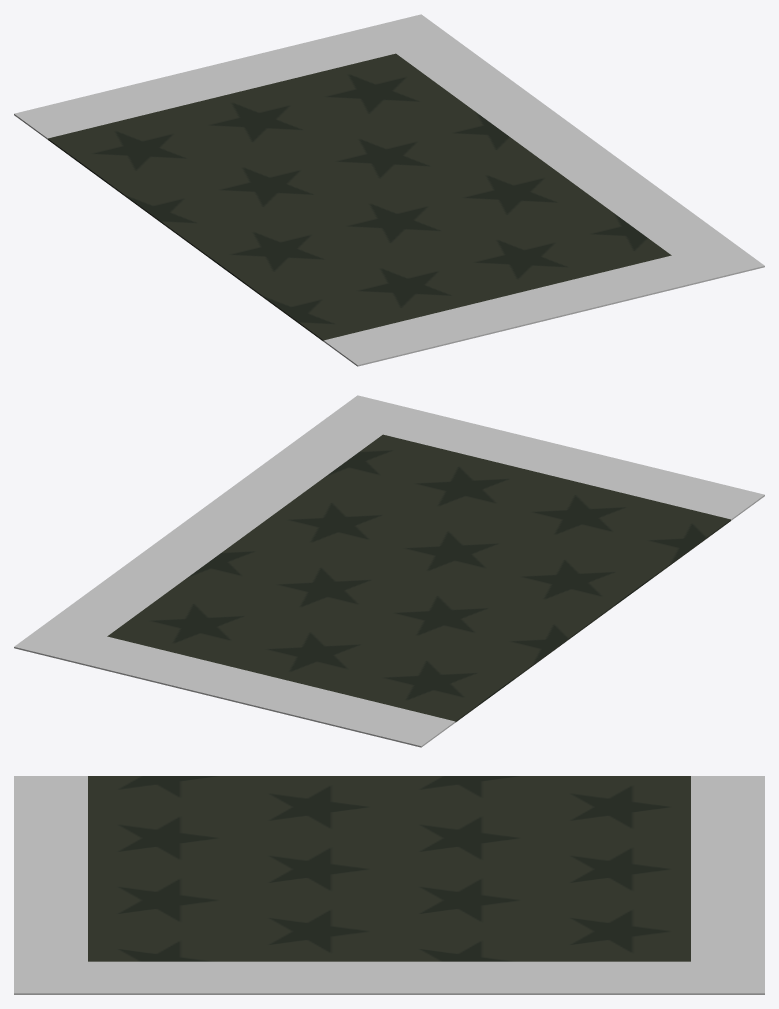
Rendered from Carpet_end.fbx.
The picture shows the model from 3 angles, top to bottom: view 1: azimuth 30°, elevation 25°; view 2: azimuth 150°, elevation 25°; view 3: azimuth 270°, elevation 25°; orthographic projection. The views are drawn at different scales.
Parts seen in each view (by area): view 1: Cube.026; view 2: Cube.026; view 3: Cube.026.
Boxes of the visible parts, left/top/right/bottom form: Cube.026: left=14, top=14, right=764, bottom=366; Cube.026: left=14, top=395, right=764, bottom=747; Cube.026: left=14, top=776, right=764, bottom=994.
Bounding box in the file's own units: 234 × 0.8051 × 342.
